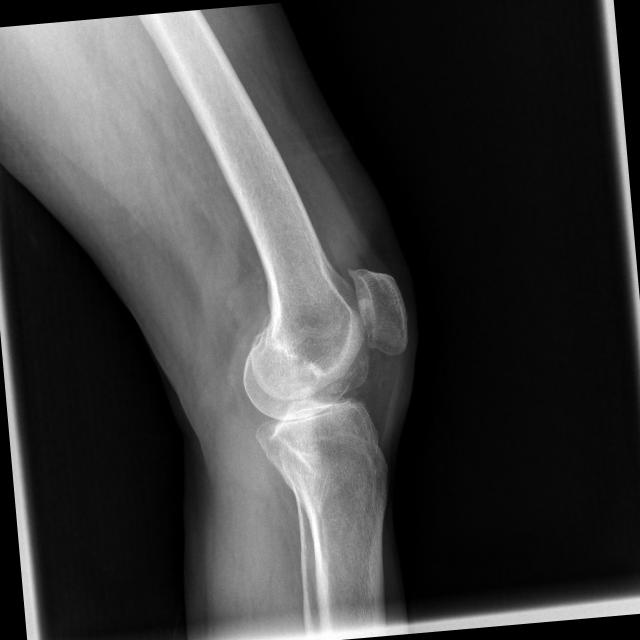Knee: (228, 258, 420, 485)
